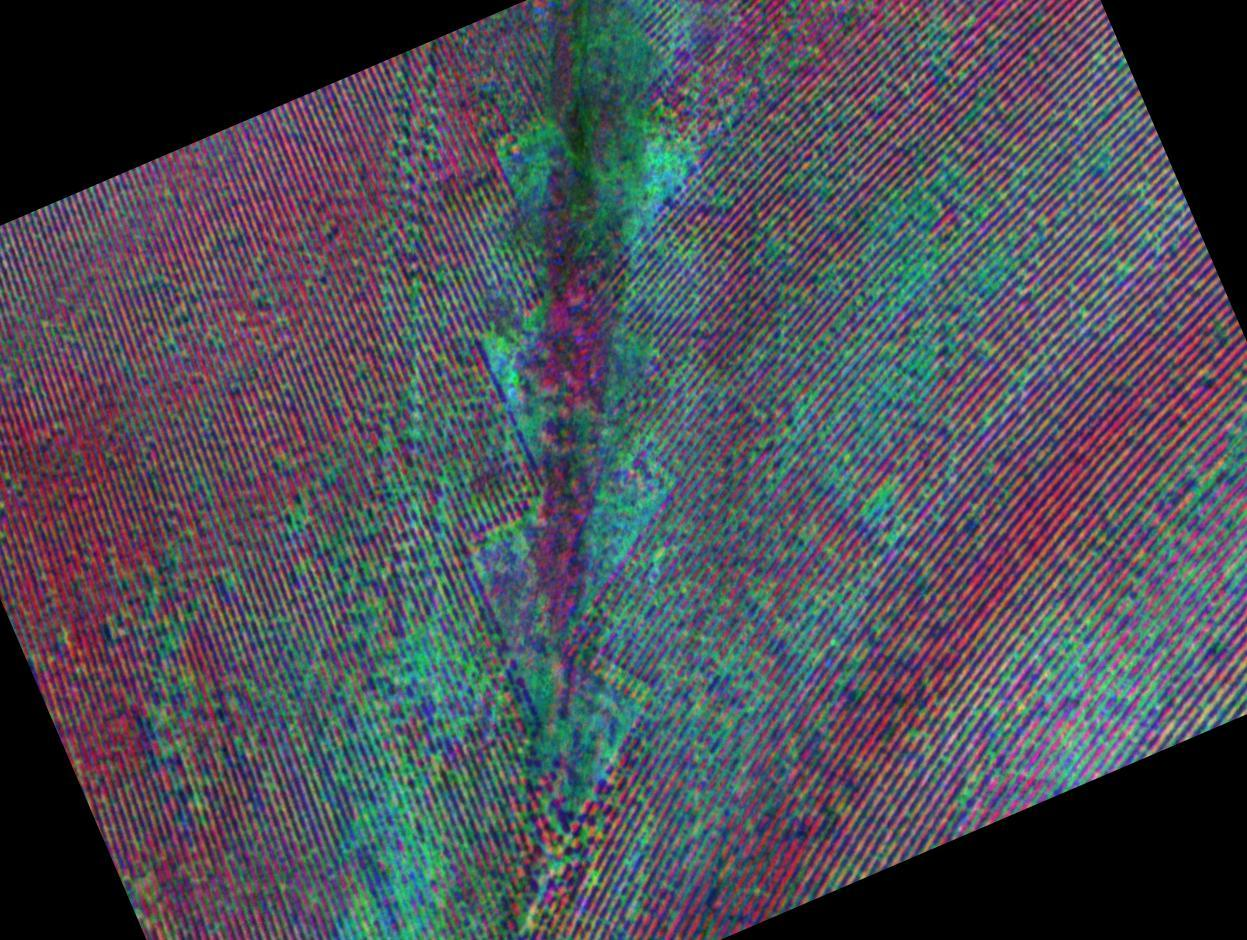dc: (349, 721, 404, 787), (388, 836, 436, 908), (881, 238, 932, 300), (412, 614, 449, 686), (603, 490, 652, 537), (637, 139, 679, 188), (484, 332, 514, 372)
